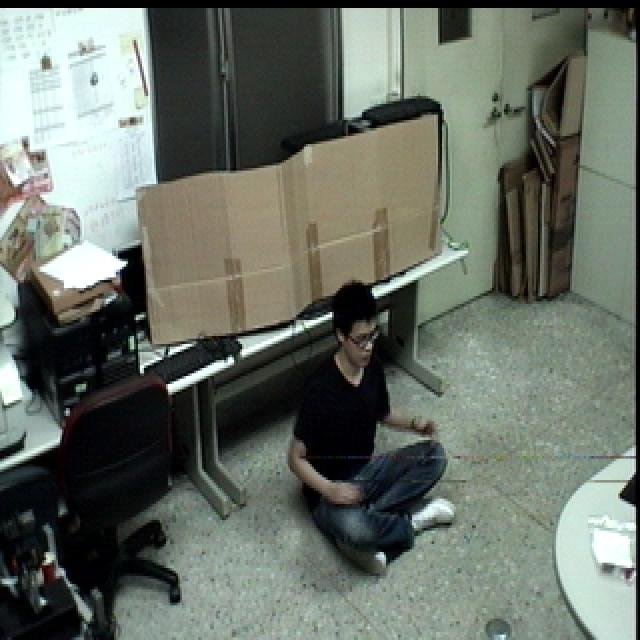sit: (284, 276, 461, 578)
